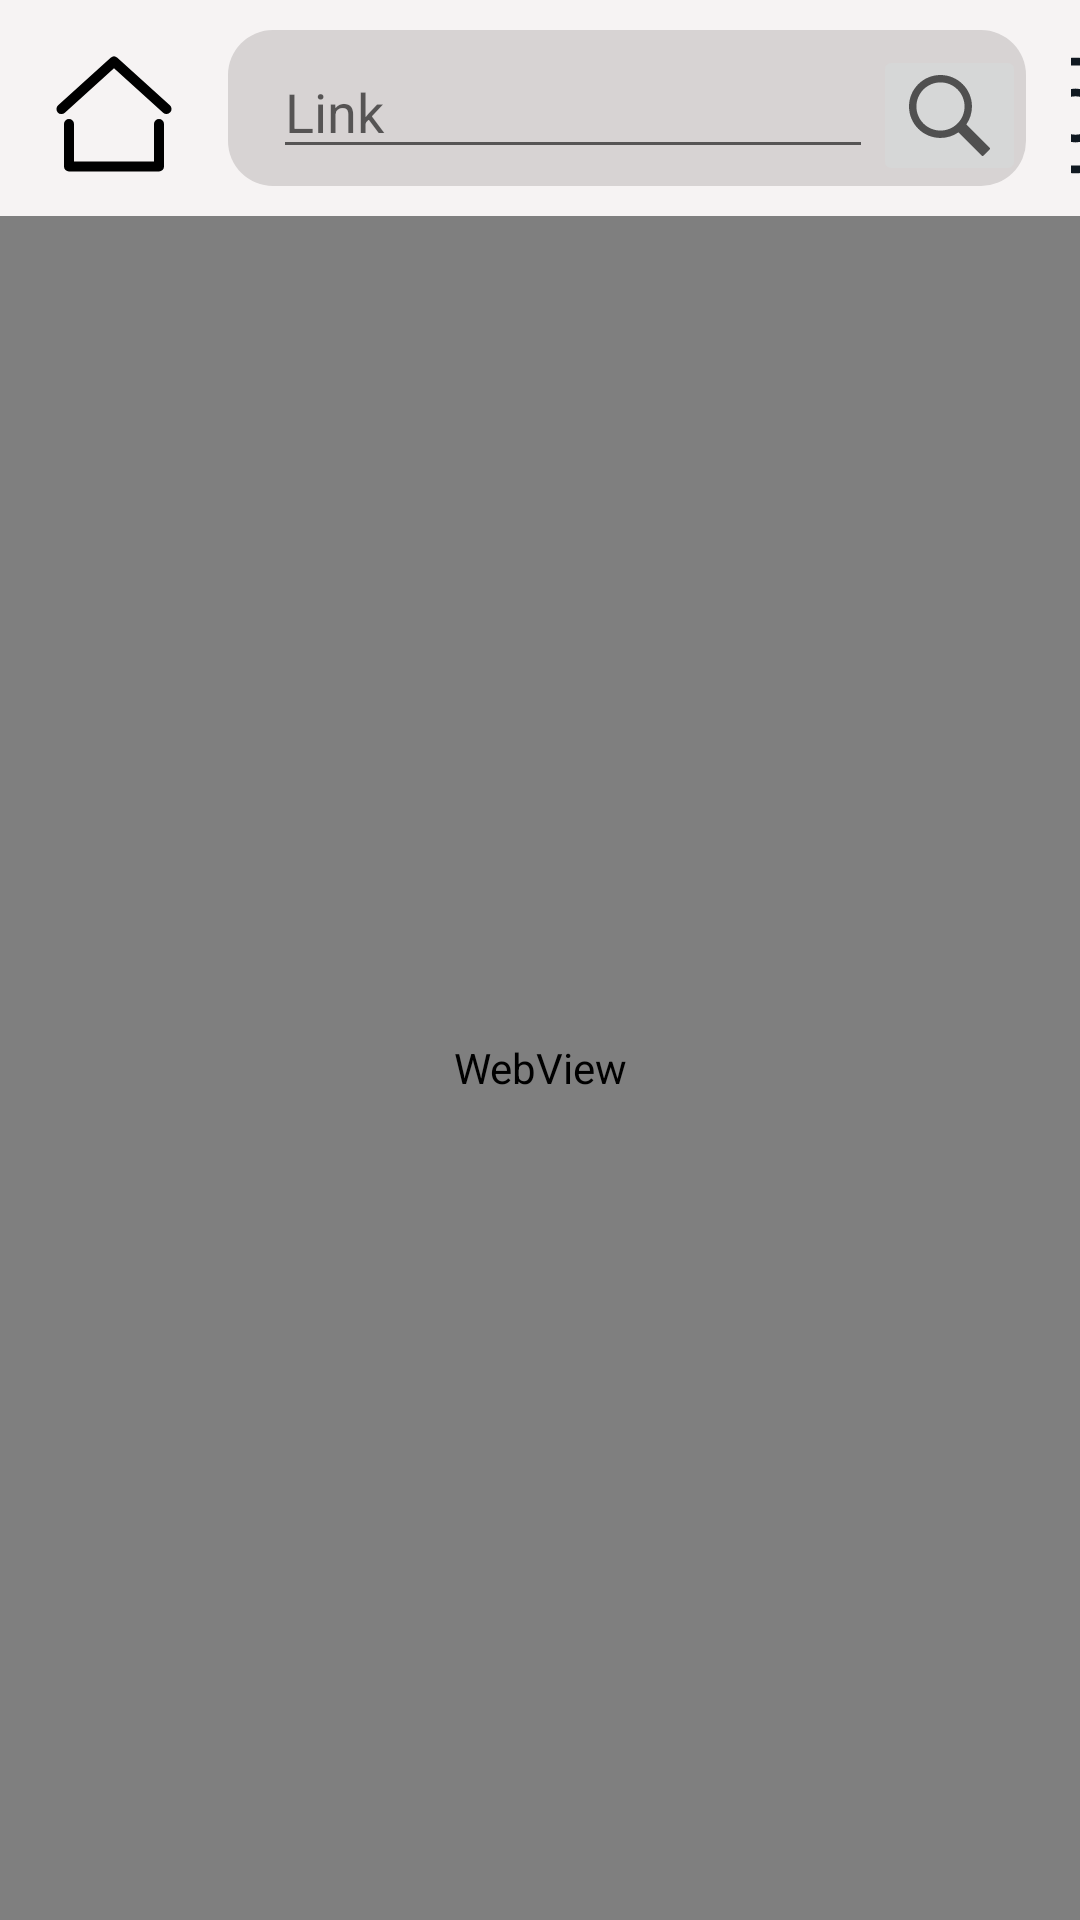

Point at icon controls on the screen. Image size 1080w x 1920h, points as (x=x, y=y).
find: (x=949, y=115)
house: (x=114, y=114)
